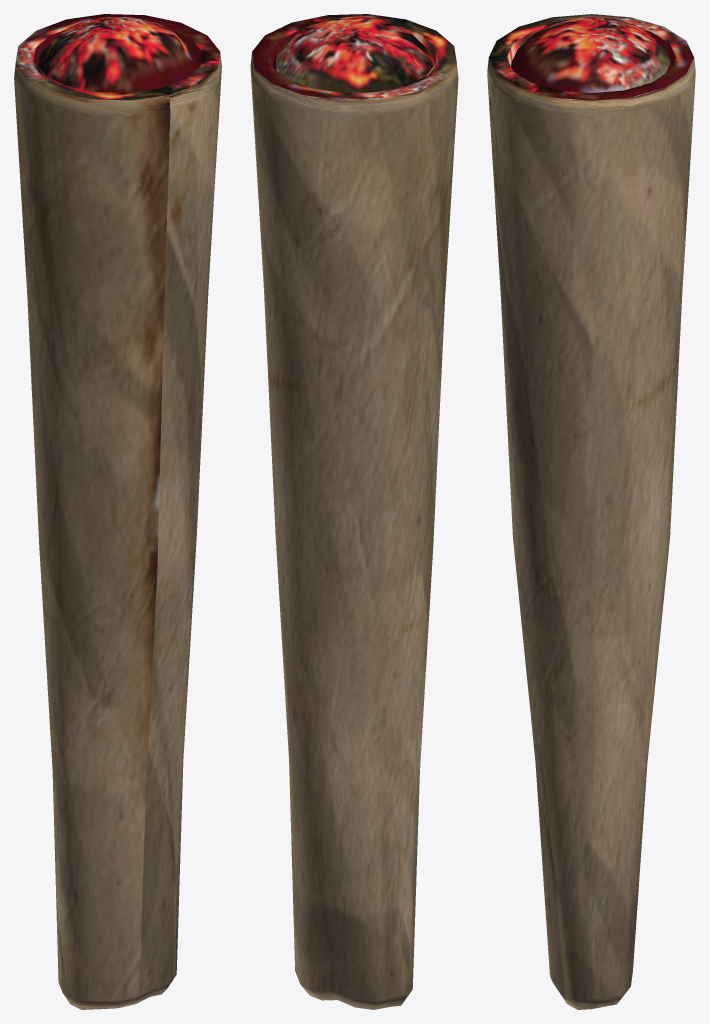
File: Blunt.fbx
3 views of the same model, side by side, from view 1: azimuth 30°, elevation 25°; view 2: azimuth 150°, elevation 25°; view 3: azimuth 270°, elevation 25° (orthographic).
Parts seen in each view (by area): view 1: Blunt; view 2: Blunt; view 3: Blunt.
Boxes of the visible parts, <box> form: Blunt: <box>14,14,221,1009</box>; Blunt: <box>250,14,458,1009</box>; Blunt: <box>487,14,695,1009</box>.
Bounding box in the file's own units: 18.19 × 92.36 × 18.19.
2 materials, 2 textured.
